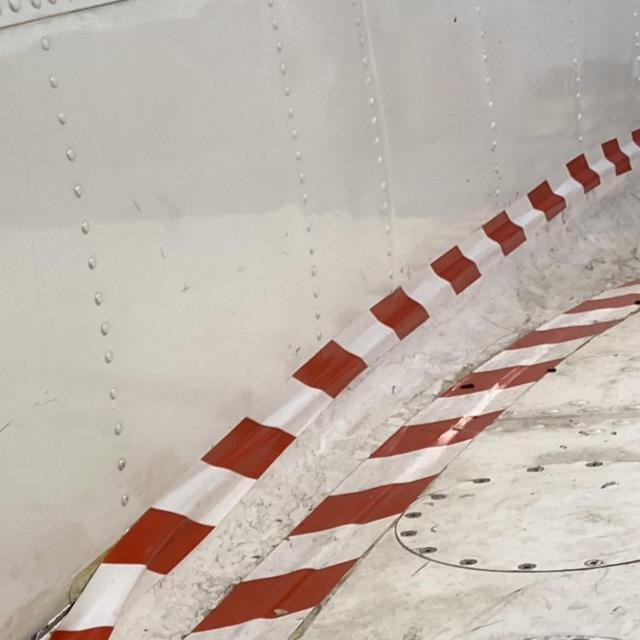Crack: (12, 587, 84, 640)
